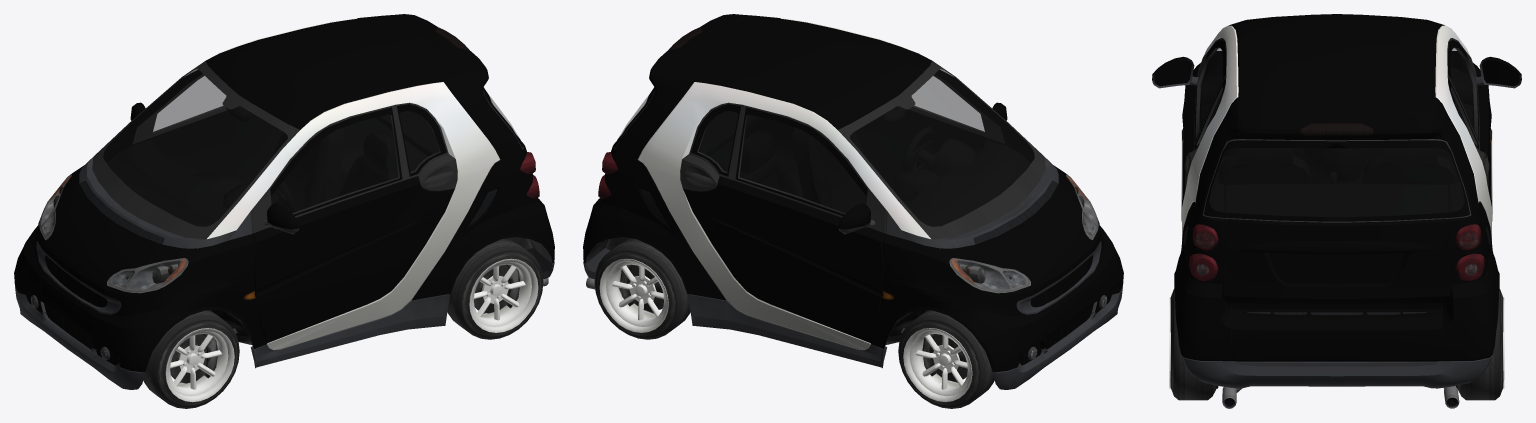
File: car_(automobile).glb
3 views of the same model, side by side, from view 1: azimuth 30°, elevation 25°; view 2: azimuth 150°, elevation 25°; view 3: azimuth 270°, elevation 25° (orthographic). The views are drawn at different scales.
Parts seen in each view (by area): view 1: bodyshell_w451_body_0, bottom_w451_bottom_0, glass_w451_glass_0, interior_w451_void_0, wheels_w451_bottom_0, wheels_tier_1t_0, door_left_w451_bottom_0, lights_w451_lights_0, door_left_w451_glass_secondary_0, trunk_door_w451_body_0; view 2: bodyshell_w451_body_0, bottom_w451_bottom_0, glass_w451_glass_0, interior_w451_void_0, wheels_w451_bottom_0, wheels_tier_1t_0, door_left_w451_bottom_0, lights_w451_lights_0, door_left_w451_glass_secondary_0, trunk_door_w451_body_0; view 3: bodyshell_w451_body_0, trunk_door_w451_body_0, glass_w451_glass_0, interior_w451_void_0, bumper_rear_w451_bottom_0, bottom_w451_bottom_0, door_left_w451_glass_secondary_0, door_left_w451_bottom_0, wheels_tier_1t_0, lights_w451_lights_0, wheels_w451_bottom_0.
Boxes of the visible parts, x1,y1,x2,y2 form: bodyshell_w451_body_0: (14,14,554,372); bottom_w451_bottom_0: (15,18,552,389); glass_w451_glass_0: (40,69,518,292); interior_w451_void_0: (103,69,439,226); wheels_w451_bottom_0: (165,258,538,402); wheels_tier_1t_0: (143,238,543,408); door_left_w451_bottom_0: (132,74,523,234); lights_w451_lights_0: (30,27,539,359); door_left_w451_glass_secondary_0: (270,87,523,215); trunk_door_w451_body_0: (387,14,488,77); bodyshell_w451_body_0: (583,14,1123,372); bottom_w451_bottom_0: (585,18,1122,389); glass_w451_glass_0: (619,69,1097,292); interior_w451_void_0: (698,69,1034,226); wheels_w451_bottom_0: (599,258,972,402); wheels_tier_1t_0: (594,238,994,408); door_left_w451_bottom_0: (614,74,1005,234); lights_w451_lights_0: (598,27,1107,359); door_left_w451_glass_secondary_0: (614,87,867,215); trunk_door_w451_body_0: (649,14,750,77); bodyshell_w451_body_0: (1152,14,1521,361); trunk_door_w451_body_0: (1223,114,1450,303); glass_w451_glass_0: (1196,48,1477,216); interior_w451_void_0: (1199,51,1474,216); bumper_rear_w451_bottom_0: (1182,356,1491,388); bottom_w451_bottom_0: (1174,25,1499,408); door_left_w451_glass_secondary_0: (1154,40,1519,221); door_left_w451_bottom_0: (1152,38,1521,222); wheels_tier_1t_0: (1170,128,1503,400); lights_w451_lights_0: (1182,123,1491,281); wheels_w451_bottom_0: (1169,130,1504,388).
Size of the model in its own units: 1.7 by 0.9502 by 1.1.
Materials: 9 (4 with a texture image).
